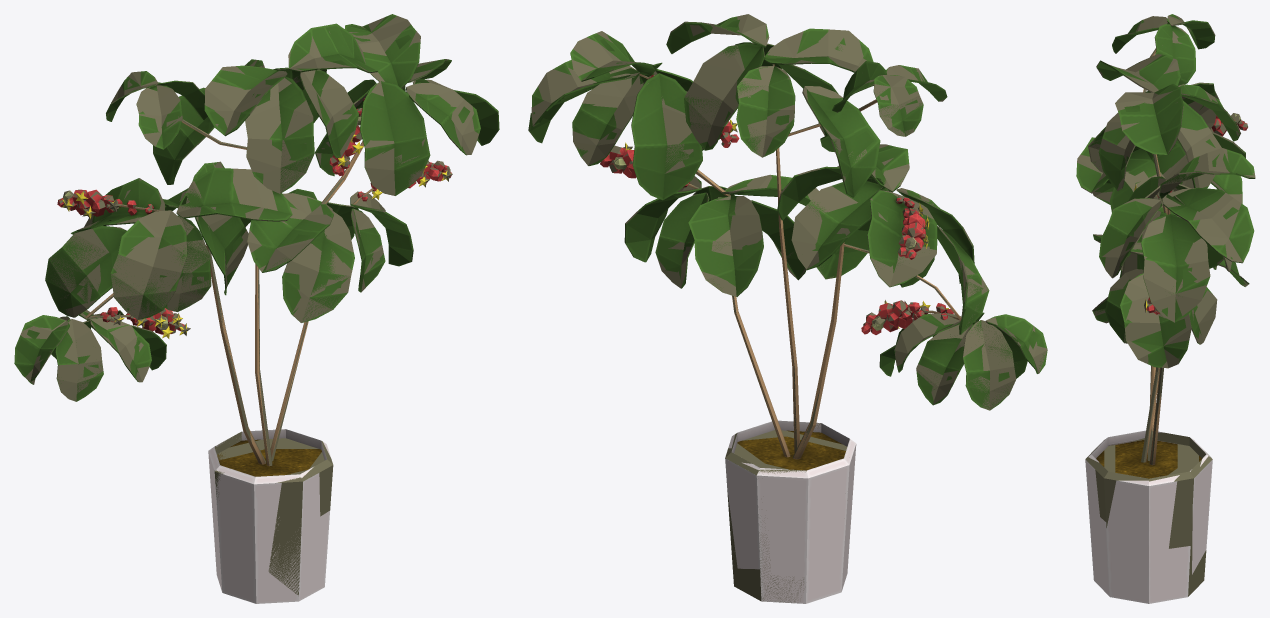
Rendered from coffee.glb.
3 renders of one model, left to right at view 1: azimuth 30°, elevation 25°; view 2: azimuth 150°, elevation 25°; view 3: azimuth 270°, elevation 25°, orthographic. The views are drawn at different scales.
Visible parts, largest first — view 1: pCylinder3_18, Null_1, CoffePlant_mehs; view 2: pCylinder3_18, Null_1, CoffePlant_mehs; view 3: pCylinder3_18, Null_1, CoffePlant_mehs.
Boxes of the visible parts, <box> form: pCylinder3_18: <box>14,14,499,603</box>; Null_1: <box>20,16,493,595</box>; CoffePlant_mehs: <box>26,23,493,603</box>; pCylinder3_18: <box>528,16,1047,576</box>; Null_1: <box>529,14,1047,602</box>; CoffePlant_mehs: <box>528,23,1046,603</box>; pCylinder3_18: <box>1076,14,1255,603</box>; Null_1: <box>1077,15,1255,596</box>; CoffePlant_mehs: <box>1089,22,1247,471</box>.
Bounding box in the file's own units: 169 × 180 × 56.16.
Materials: 2 (1 with a texture image).
